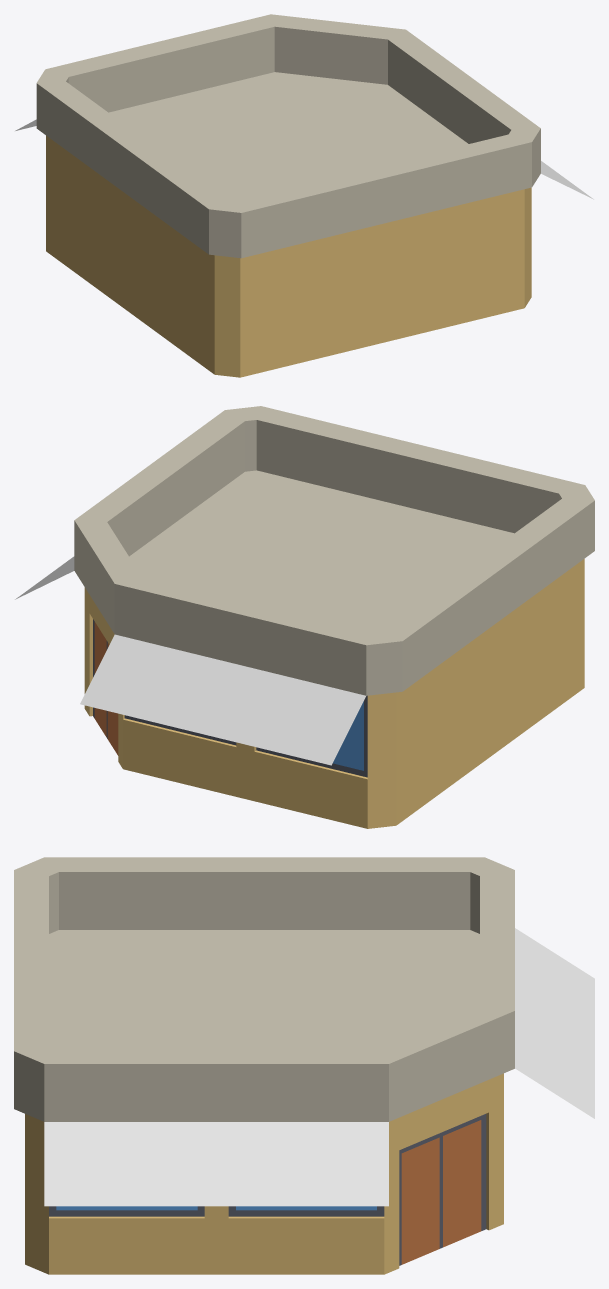
The model's file is cafe_y3.fbx.
3 views of the same model, one above another, from view 1: azimuth 30°, elevation 25°; view 2: azimuth 150°, elevation 25°; view 3: azimuth 270°, elevation 25° (orthographic). The views are drawn at different scales.
Parts seen in each view (by area): view 1: Cafe1.002; view 2: Cafe1.002; view 3: Cafe1.002.
Part boxes in pixels (<box>): Cafe1.002: <box>15,14,593,377</box>; Cafe1.002: <box>15,406,594,828</box>; Cafe1.002: <box>14,857,594,1274</box>.
Bounding box in the file's own units: 7130 × 2976 × 7277.
